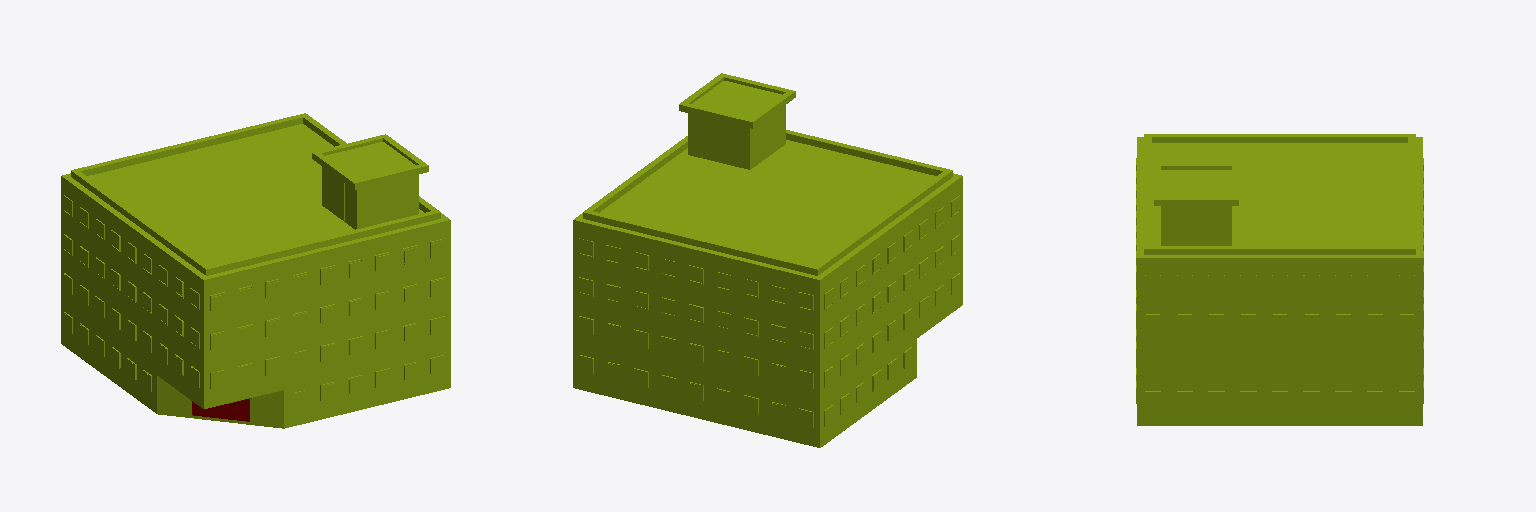
The model's file is apartment_001.obj.
The picture shows the model from 3 angles: view 1: azimuth 30°, elevation 25°; view 2: azimuth 150°, elevation 25°; view 3: azimuth 270°, elevation 25°; orthographic projection.
Parts seen in each view (by area): view 1: Box005, Box007, Box006, Box001, Object073; view 2: Box005, Box006, Box007, Box001; view 3: Box005, Box001, Box006, Box007.
Part boxes in pixels (x1,y1,x2,y2): Box005: (61, 113, 450, 331); Box007: (61, 267, 450, 408); Box006: (61, 228, 450, 370); Box001: (61, 305, 450, 428); Object073: (192, 398, 249, 421); Box005: (573, 73, 962, 331); Box006: (573, 228, 962, 370); Box007: (573, 267, 962, 408); Box001: (573, 339, 916, 447); Box005: (1136, 134, 1423, 309); Box001: (1136, 365, 1423, 425); Box006: (1136, 287, 1423, 348); Box007: (1136, 326, 1423, 386).
Size of the model in its own units: 404 by 340 by 404.